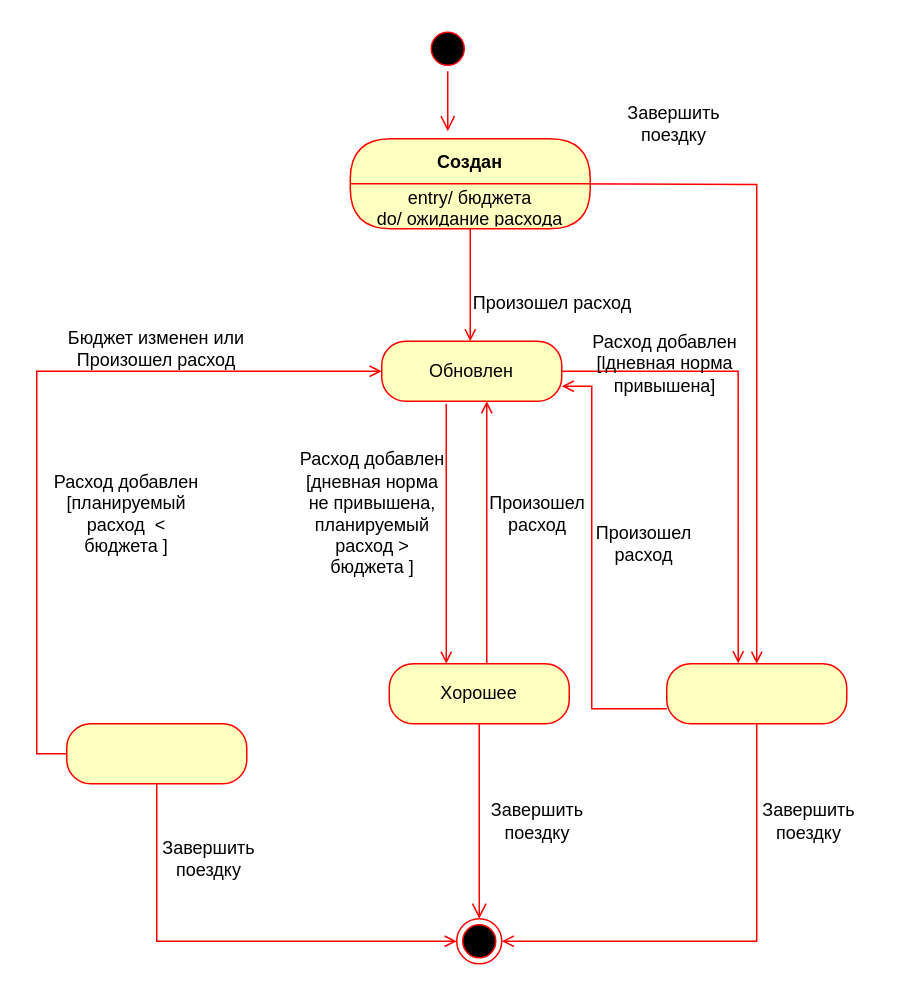
Image size: 918x990. Some labels were removed from this diagram. Each missing label, with the centre of its shape:
"Критичное" belongs at [156,753].
"Умеренное" belongs at [756,693].
